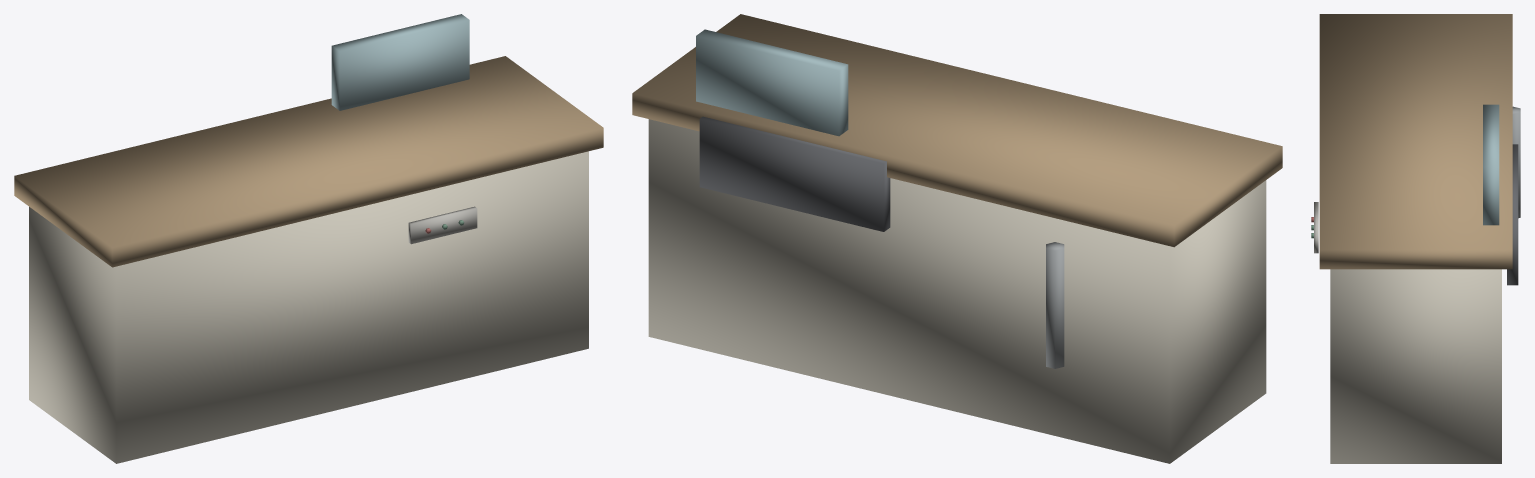
File: service_counter__service.glb
3 views of the same model, side by side, from view 1: azimuth 30°, elevation 25°; view 2: azimuth 150°, elevation 25°; view 3: azimuth 270°, elevation 25° (orthographic). The views are drawn at different scales.
Visible parts, largest first — view 1: world; view 2: world; view 3: world.
Part boxes in pixels (<box>): world: <box>14,14,603,463</box>; world: <box>632,14,1282,463</box>; world: <box>1311,14,1520,463</box>.
Bounding box in the file's own units: 2.08 × 1.14 × 0.7813.
